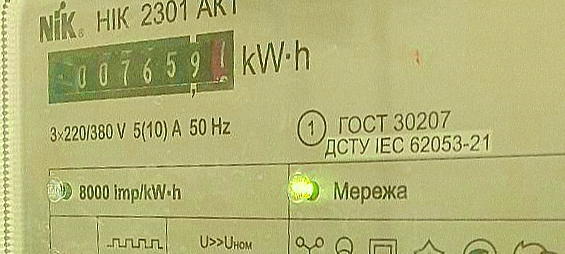0: (75, 60, 89, 88), (96, 59, 110, 87)
1: (215, 38, 229, 70)
5: (163, 47, 179, 80)
6: (140, 53, 155, 85)
7: (117, 54, 133, 87)
9: (187, 46, 203, 81)
screen: (31, 13, 257, 119)
